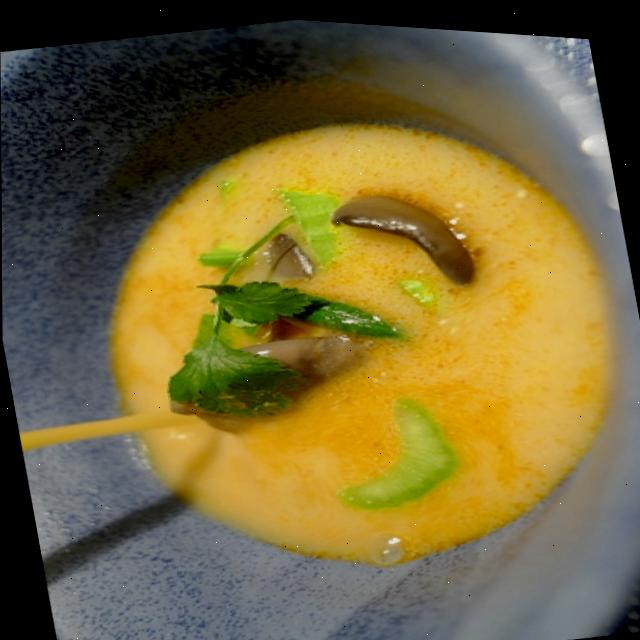汤锅炖物: (29, 11, 640, 640)
